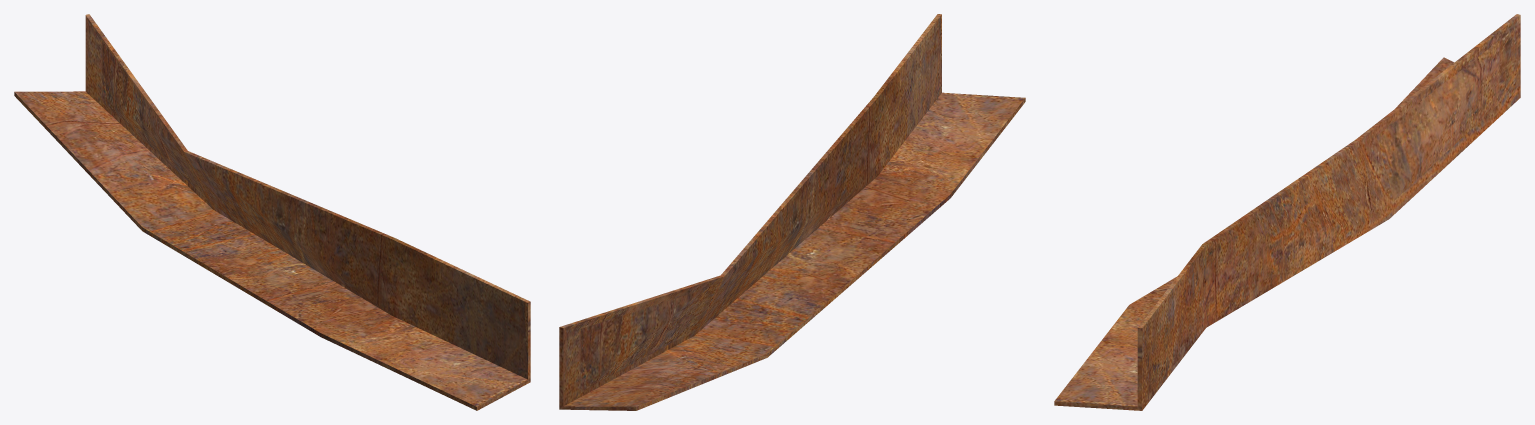
File: Metal_Bar_B_3.fbx
3 renders of one model, left to right at view 1: azimuth 30°, elevation 25°; view 2: azimuth 150°, elevation 25°; view 3: azimuth 330°, elevation 25°, orthographic. The views are drawn at different scales.
Parts seen in each view (by area): view 1: pCube7; view 2: pCube7; view 3: pCube7.
Part boxes in pixels (box(x1,y1,x2,y2)): pCube7: box(14, 14, 530, 410); pCube7: box(559, 14, 1025, 410); pCube7: box(1054, 14, 1520, 410).
Size of the model in its own units: 1.45 by 1.31 by 9.48.
